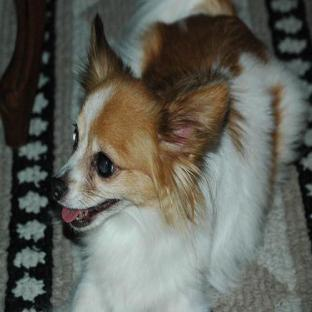Animal: (53, 0, 308, 311)
